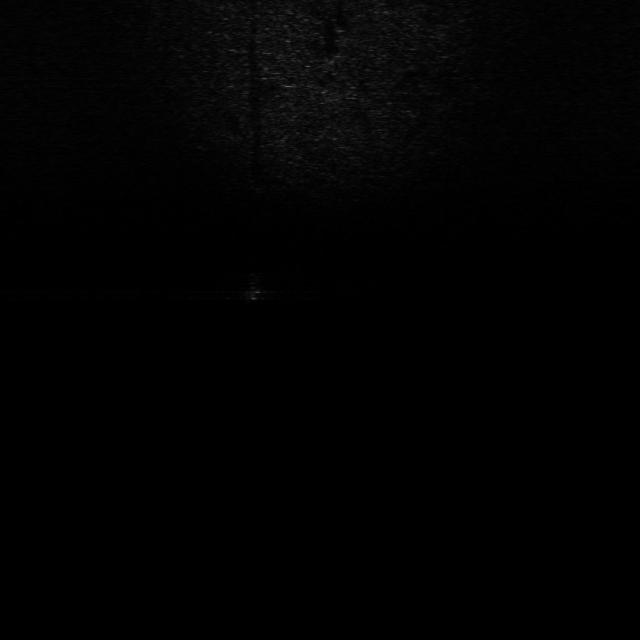human body: (241, 266, 268, 306)
